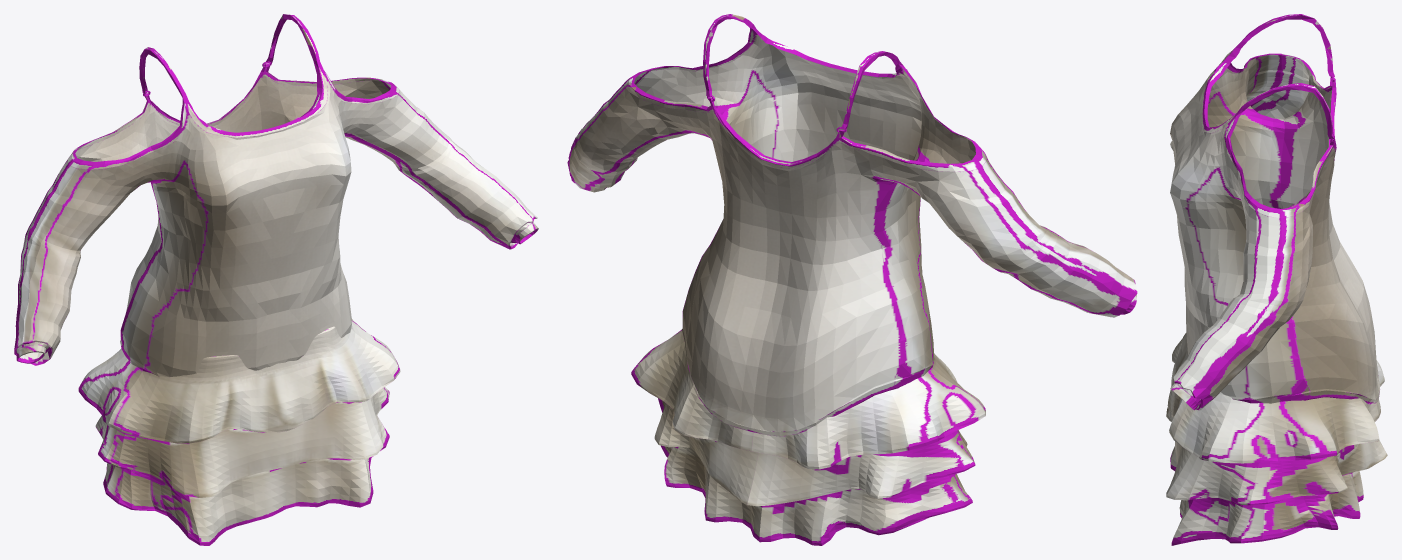
The picture shows the model from 3 angles, left to right: view 1: azimuth 30°, elevation 25°; view 2: azimuth 150°, elevation 25°; view 3: azimuth 270°, elevation 25°; orthographic projection. The views are drawn at different scales.
Bounding box in the file's own units: 1.1 × 0.9015 × 0.3949.
Materials: 1 (1 with a texture image).
